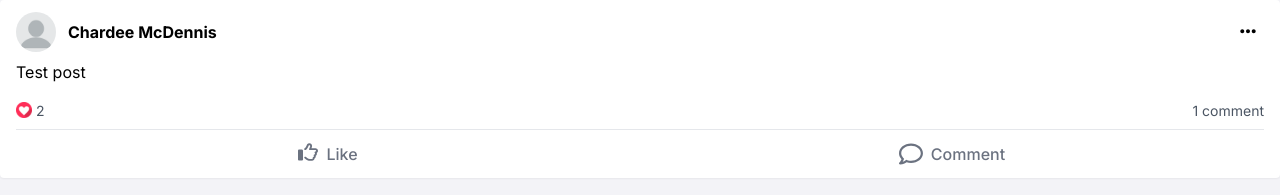
Post menu display tests › Closes menu when outside click occurs
The image size is (1280, 195).
# Open menu
Click the button with test id "menu".
click(1248, 31)  # box [1232,18,1264,44]
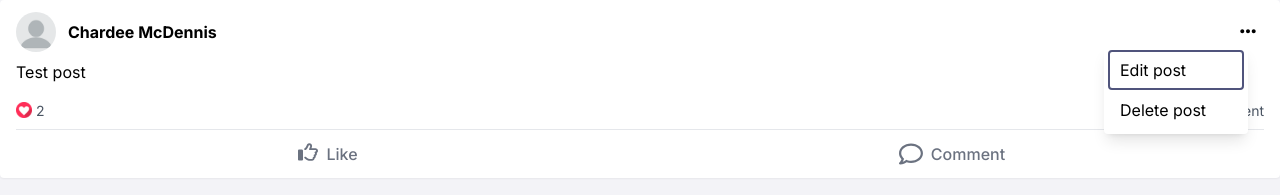
# Outside click by clicking on post body
Click the element that starts with "Chardee McDennis".
click(640, 89)  # box [0,0,1279,178]
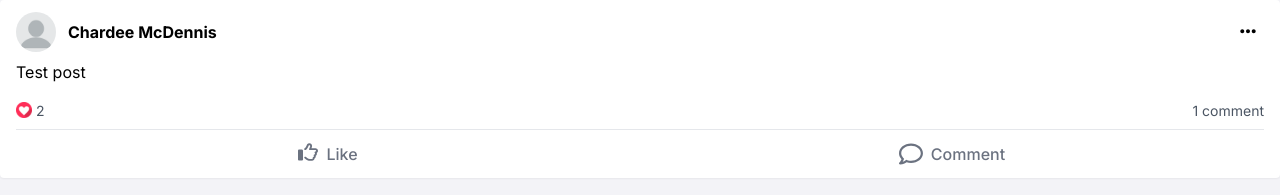
Expected: the menu with test id "dropdown" is gone
